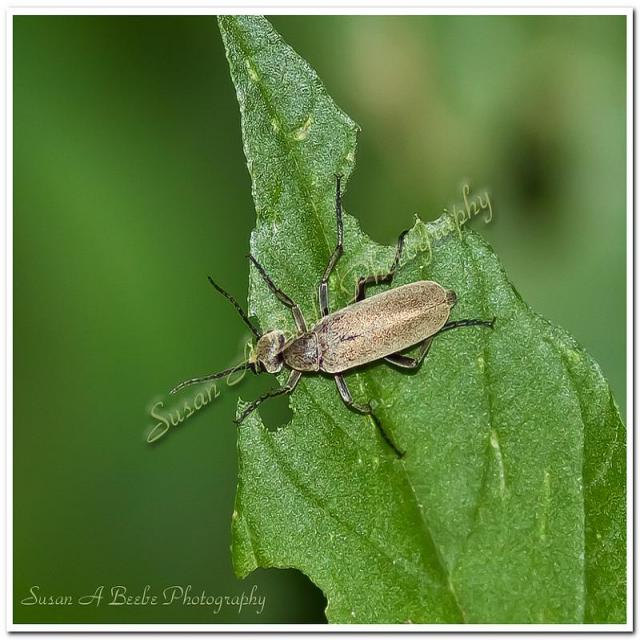BlisterBeetle-Adult-: (181, 202, 486, 458)
